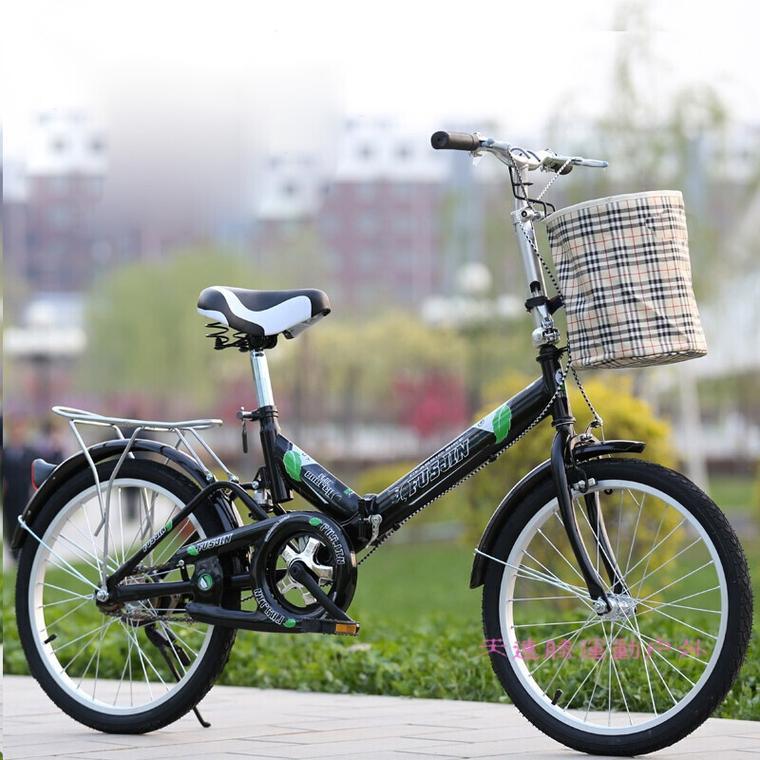单车: (8, 105, 758, 757)
